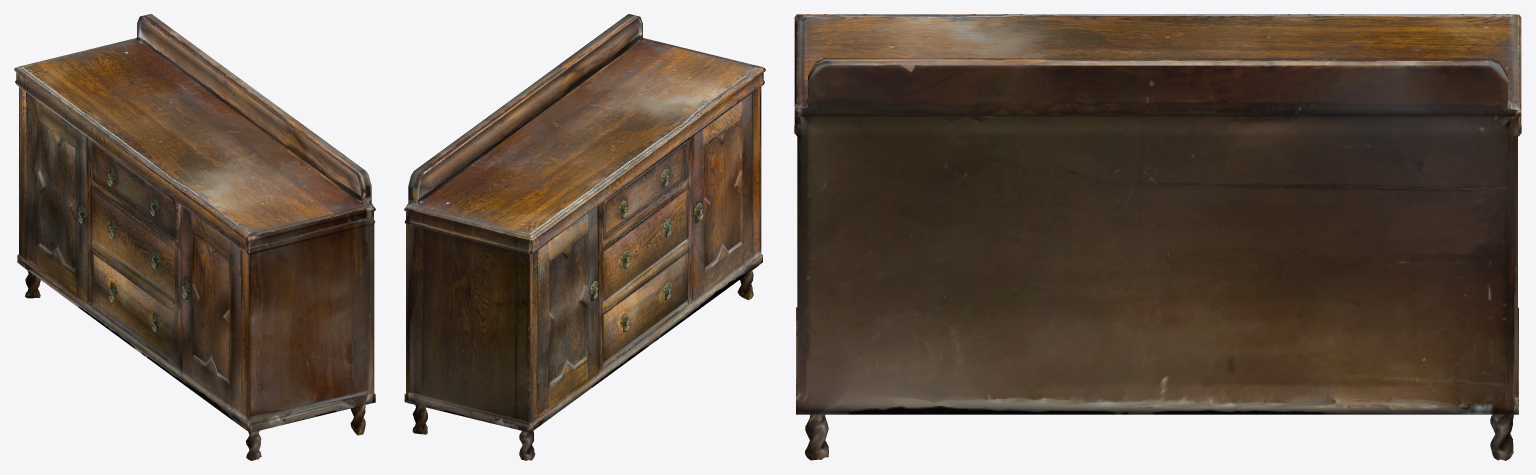
The model's file is Draws1.fbx.
3 views of the same model, side by side, from view 1: azimuth 30°, elevation 25°; view 2: azimuth 150°, elevation 25°; view 3: azimuth 270°, elevation 25° (orthographic). The views are drawn at different scales.
Parts seen in each view (by area): view 1: Draws, Draw; view 2: Draws, Draw; view 3: Draws.
Boxes of the visible parts, x1,y1,x2,y2 form: Draws: (14,14,375,460); Draw: (91,140,178,241); Draws: (404,14,765,460); Draw: (603,140,688,241); Draws: (794,14,1521,460).
Size of the model in its own units: 43.15 by 82.4 by 136.
